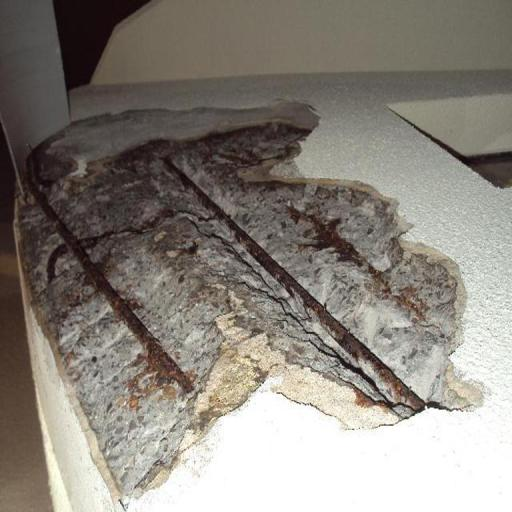spalling: (17, 105, 491, 510)
